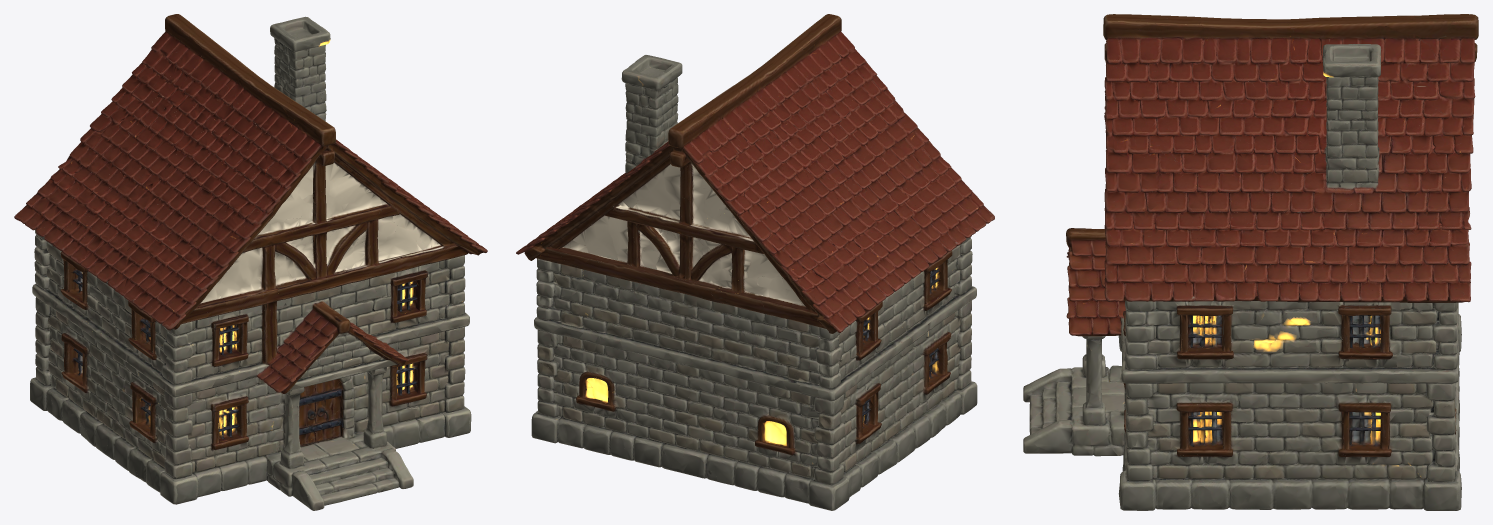
Rendered from OakHillBank_300k.glb.
The picture shows the model from 3 angles, left to right: view 1: azimuth 30°, elevation 25°; view 2: azimuth 150°, elevation 25°; view 3: azimuth 270°, elevation 25°; orthographic projection. The views are drawn at different scales.
Parts seen in each view (by area): view 1: Mesh_0; view 2: Mesh_0; view 3: Mesh_0.
Part boxes in pixels (box(x1,y1,x2,y2)): Mesh_0: box(14, 14, 487, 510); Mesh_0: box(516, 14, 994, 510); Mesh_0: box(1023, 14, 1478, 510).
Size of the model in its own units: 1.82 by 1.9 by 1.89.
Materials: 1 (1 with a texture image).
